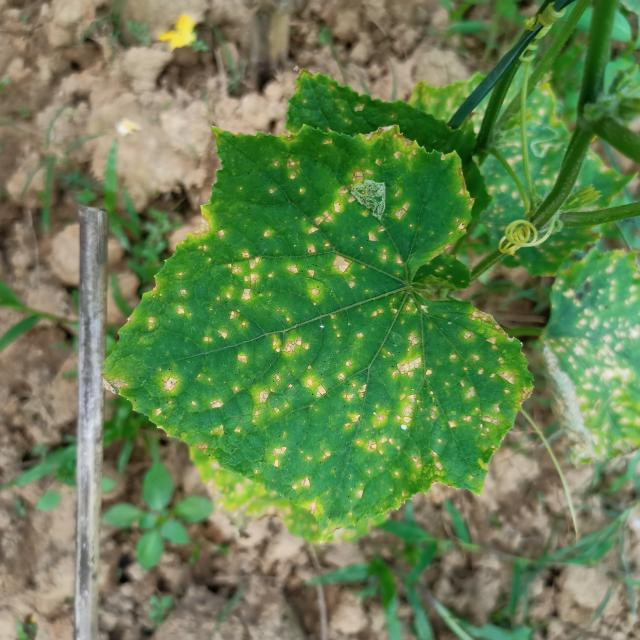disease_cucumber: (134, 147, 513, 518)
